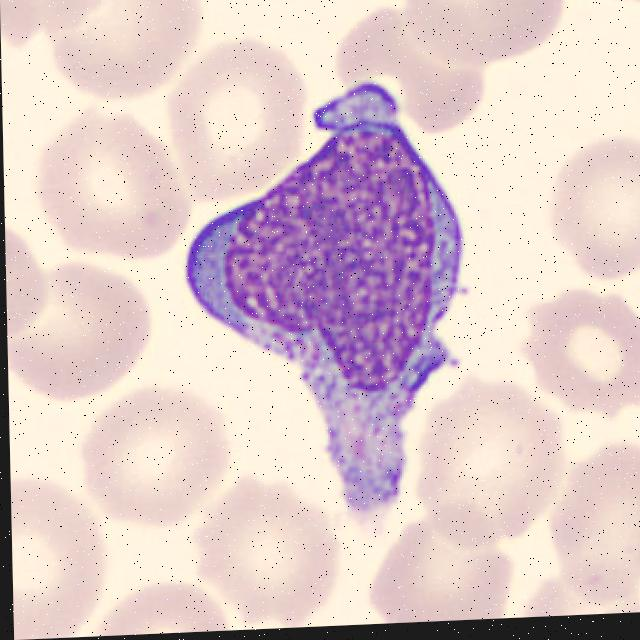monocyte: (188, 89, 499, 531)
rbc: (161, 46, 309, 204), (420, 387, 560, 544), (195, 477, 333, 628), (36, 122, 181, 253), (82, 395, 226, 522), (10, 278, 156, 397), (338, 12, 477, 136), (367, 511, 508, 624), (11, 477, 106, 640), (552, 442, 640, 607), (52, 0, 194, 93), (527, 299, 640, 413), (558, 132, 640, 279), (398, 0, 563, 69), (97, 582, 231, 636), (517, 571, 640, 617), (0, 0, 111, 46), (5, 220, 47, 341), (578, 0, 640, 6)
